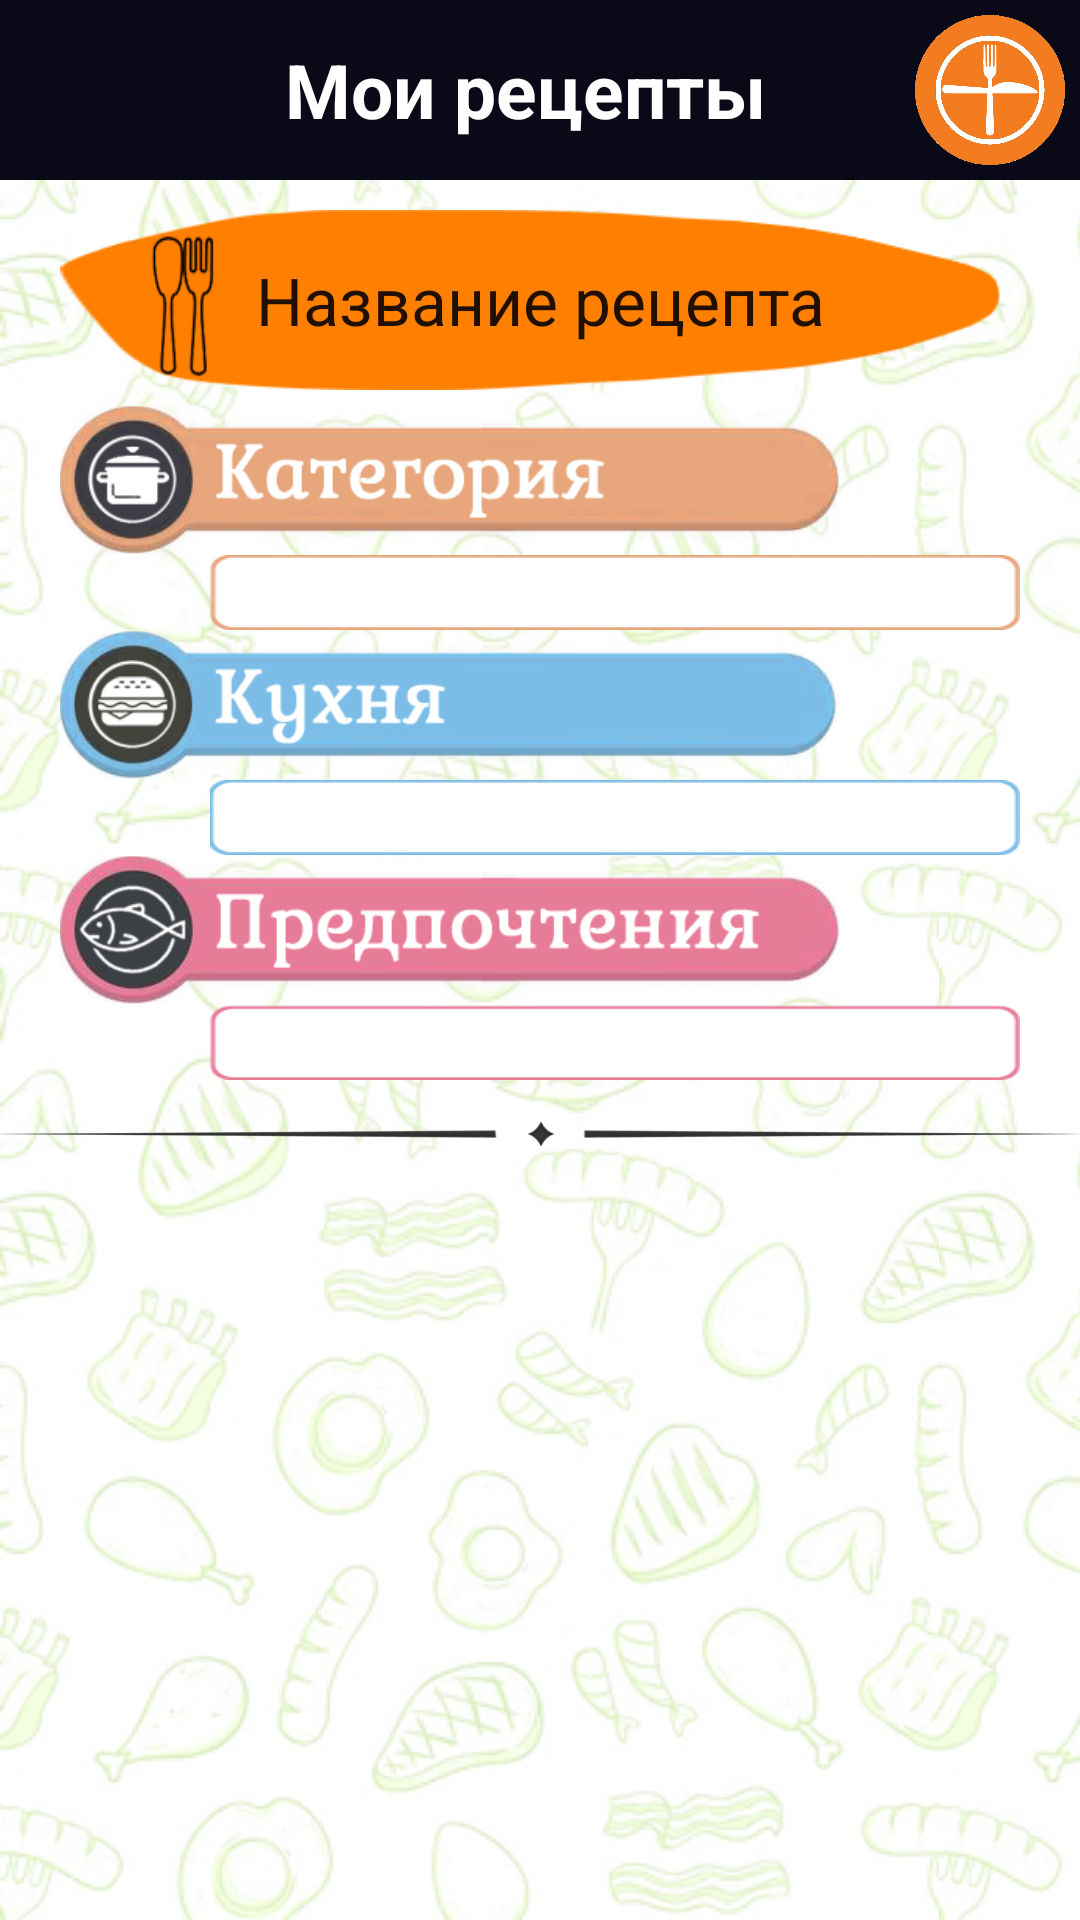

Icons on this 1080px×1920px Android screen, each with the point to tap as [x,y]:
tullbar newrecipe: [990,90]
